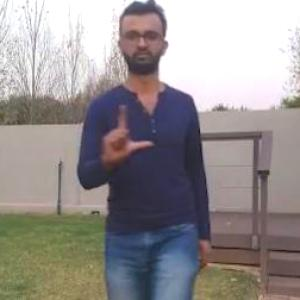land_hand: (89, 95, 156, 163)
